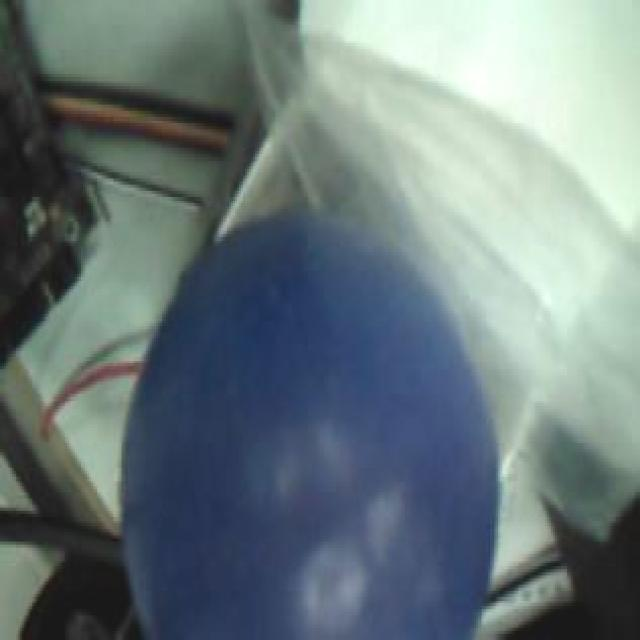BallPurple: (122, 212, 498, 640)
